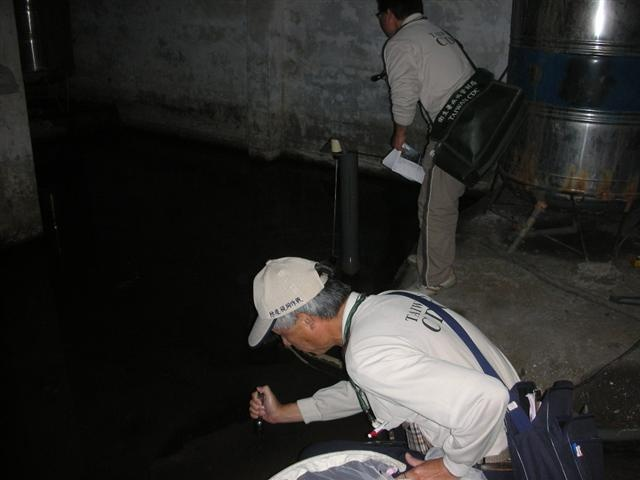water_tower: (488, 1, 638, 277)
